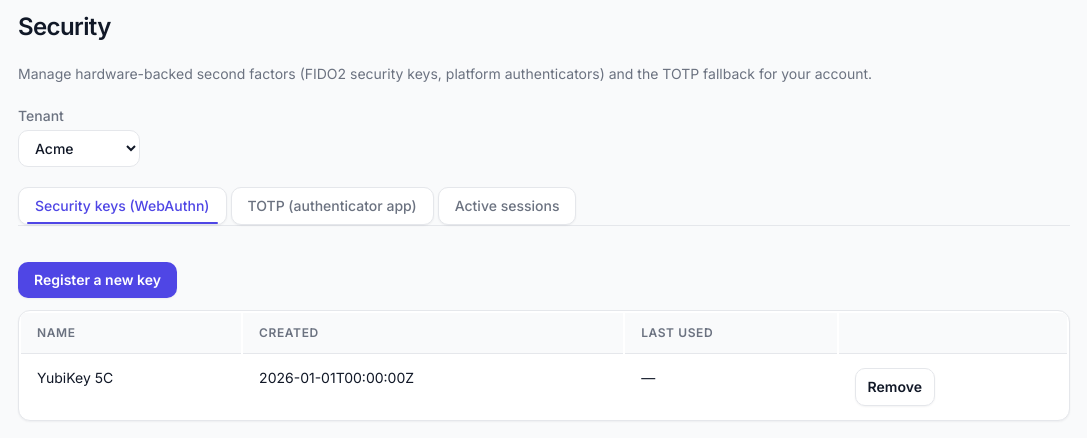
Test: <SecuritySettings /> WebAuthn › removes a credential and refreshes the list
Select "Acme" in the dropdown labelled "Tenant": [79, 148] box [18,130,140,167]
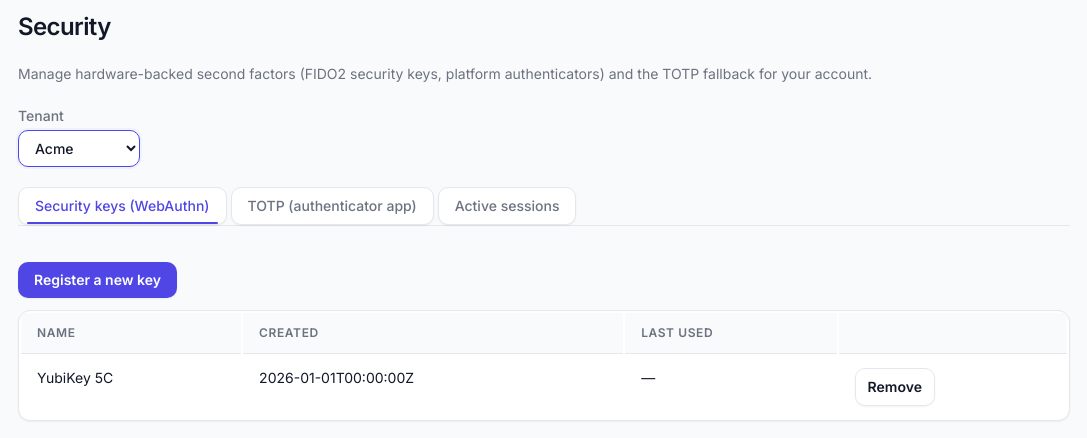
Expected: the cell "YubiKey 5C" is shown, [21,356,241,418]
Click the button "Remove": [895, 387] box [855,368,935,406]
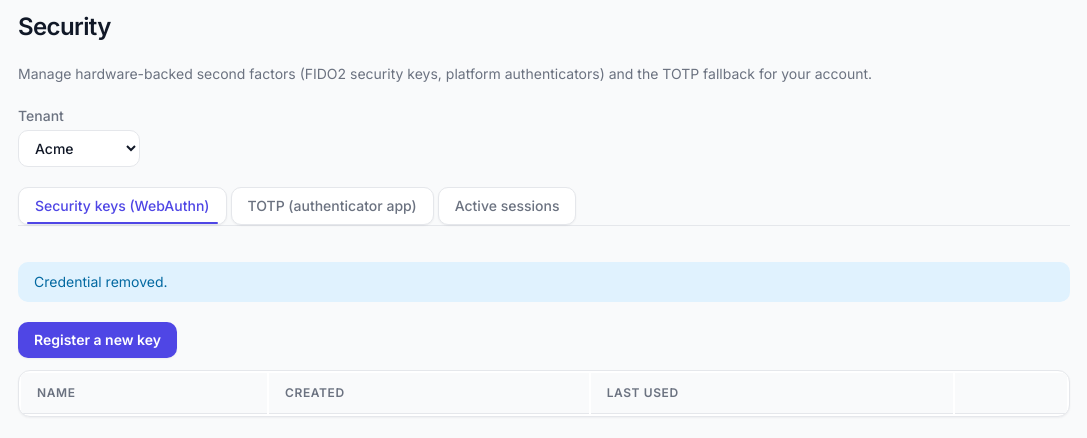
Now the cell "YubiKey 5C" is gone
